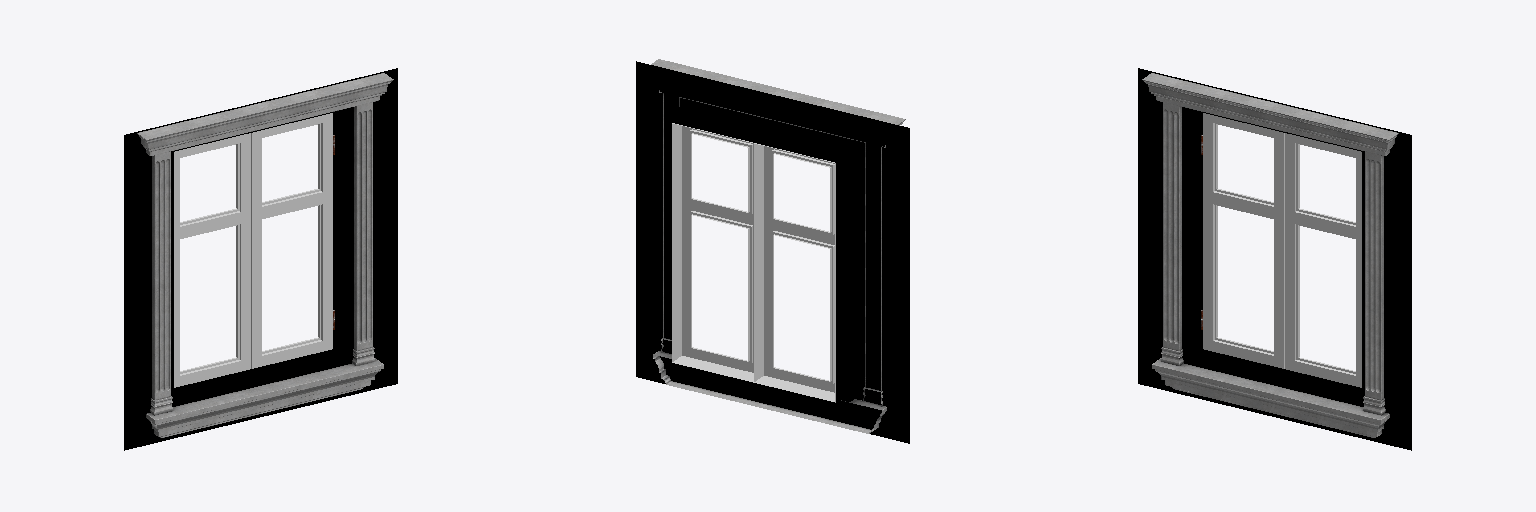
3 views of the same model, side by side, from view 1: azimuth 30°, elevation 25°; view 2: azimuth 150°, elevation 25°; view 3: azimuth 330°, elevation 25° (orthographic).
Visible parts, largest first — view 1: window_01, wall_ref; view 2: wall_ref, window_01; view 3: window_01, wall_ref.
Part boxes in pixels (x1,y1,x2,y2): window_01: (137,73,393,437); wall_ref: (124,68,397,450); wall_ref: (636,61,909,443); window_01: (651,59,905,433); window_01: (1142,73,1398,437); wall_ref: (1138,68,1411,450).
Size of the model in its own units: 8.39 by 9.24 by 1.51.
2 materials, 1 textured.